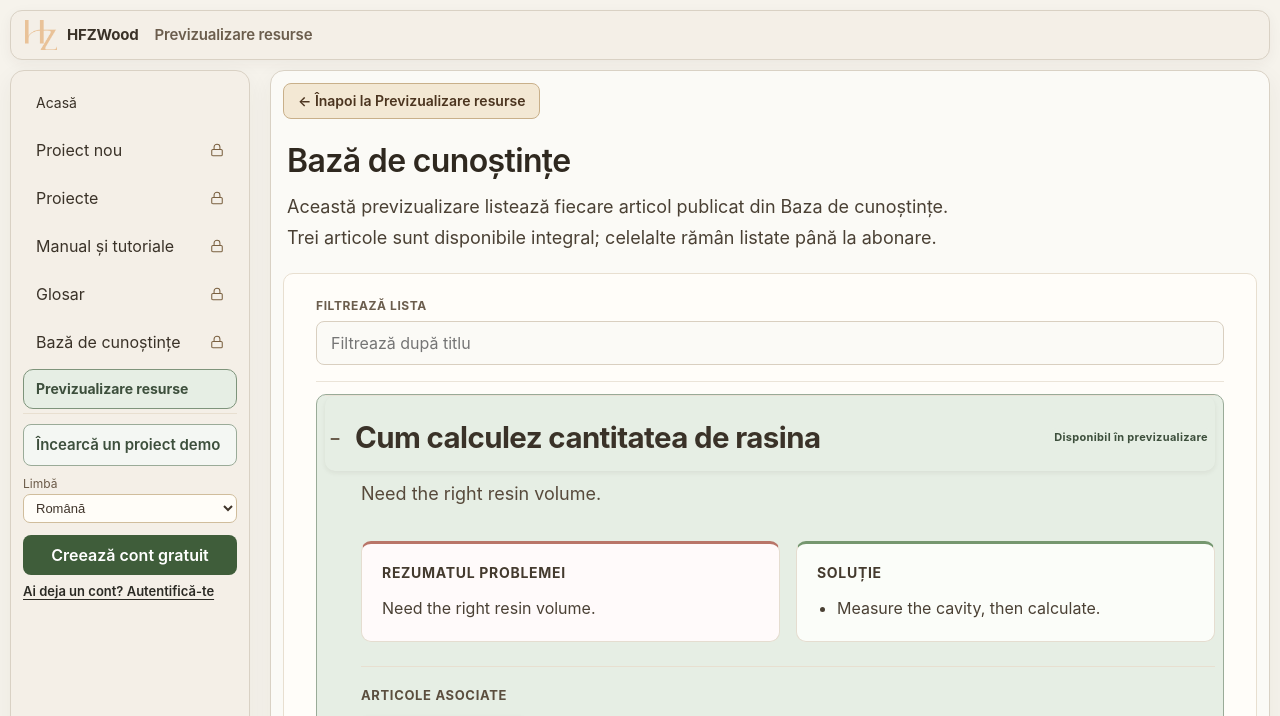
Scenario: Knowledge Base public preview › does not auto-open a locked body when search hides the current unlocked article
Check: the list item "Measure the cavity, then calculate." is shown, box x1=837 y1=598 x2=1100 y2=618
Type "Articol blocat" into the search field labelled "Filtrează lista" at (770, 343), box x1=316 y1=321 x2=1224 y2=365
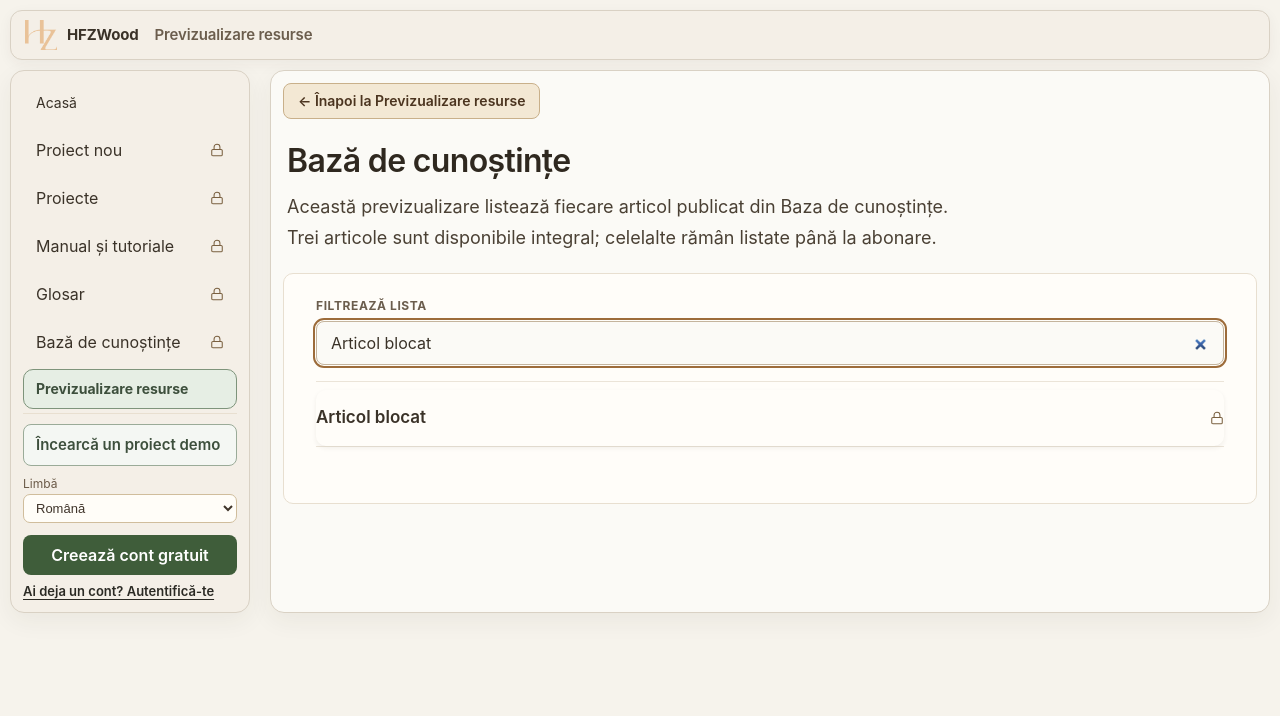
Check: the list item "Measure the cavity, then calculate." is gone
